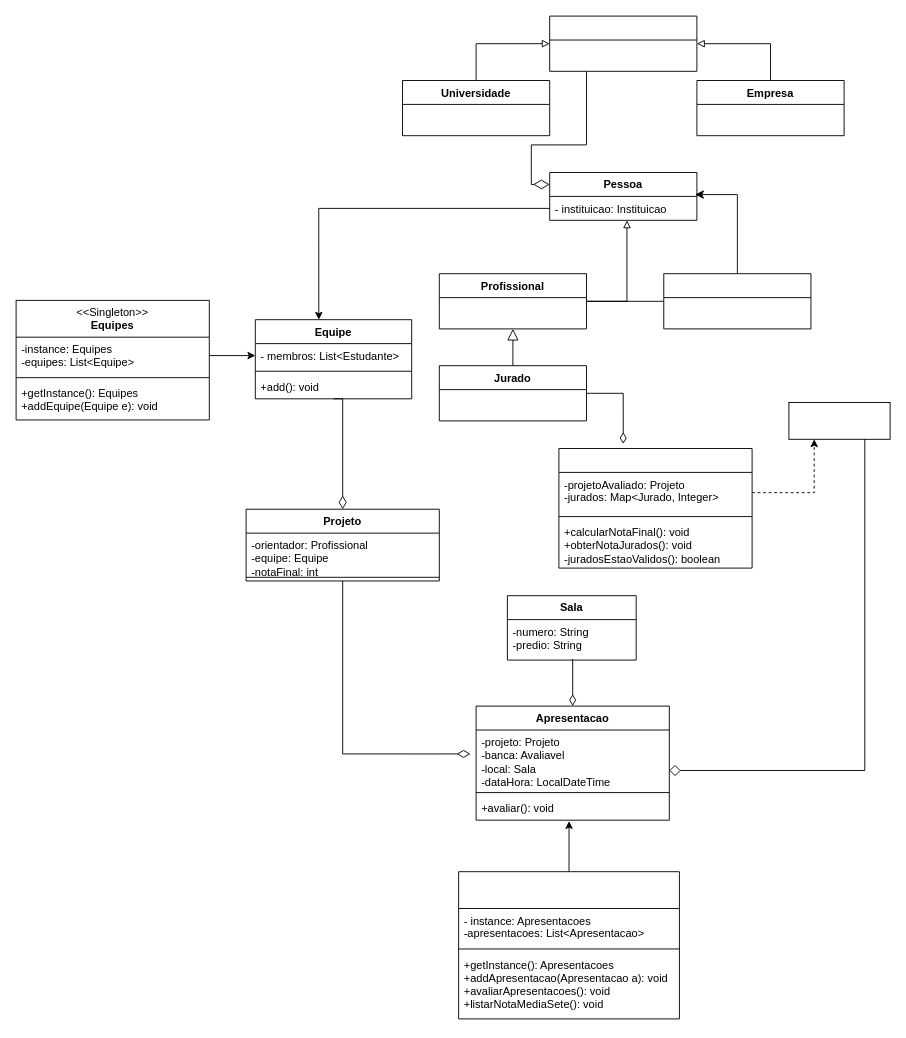
Some shapes in this 906 by 1038 pixel diagram are drawn without their labels. Each missing label, with the box of its shape:
<<Interface>> Avaliavel: (788, 402, 890, 439)
<<Singleton>> Apresentacoes: (458, 871, 679, 1019)
Banca: (558, 448, 752, 568)
Estudante: (663, 273, 811, 329)
Instituição: (549, 15, 697, 71)
